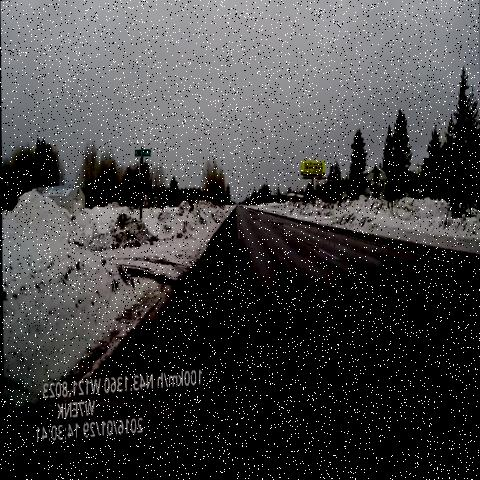pothole: (245, 210, 263, 237), (266, 220, 289, 240)
